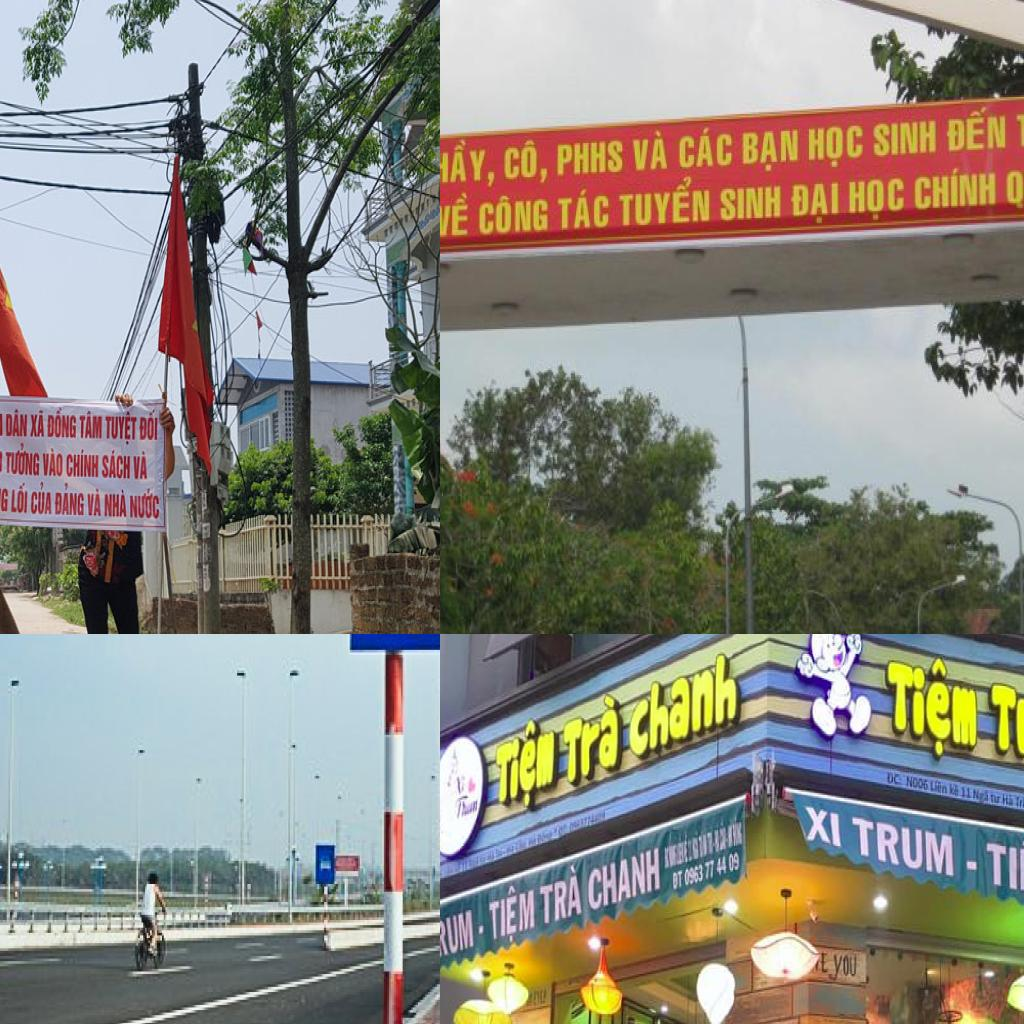text: (626, 648, 744, 766), (882, 649, 980, 769), (850, 812, 958, 884), (494, 710, 559, 817), (562, 690, 622, 792), (587, 844, 661, 916), (615, 174, 713, 228), (913, 164, 1000, 214), (985, 671, 1024, 778), (483, 881, 536, 952), (945, 104, 1009, 156), (981, 831, 1024, 908), (540, 860, 585, 931), (440, 137, 497, 192), (476, 196, 552, 237), (808, 124, 866, 176), (556, 135, 626, 177), (848, 176, 908, 224), (677, 124, 735, 172), (718, 180, 784, 222), (742, 126, 802, 172), (503, 133, 552, 189), (557, 186, 611, 234), (872, 119, 940, 157), (789, 179, 841, 228), (801, 804, 843, 856), (684, 854, 741, 892), (440, 907, 475, 966), (440, 190, 472, 243), (631, 131, 668, 174), (5, 441, 41, 478), (104, 410, 138, 447), (55, 482, 86, 518), (827, 952, 860, 985), (46, 406, 78, 440), (66, 448, 100, 480), (1002, 163, 1024, 211), (102, 448, 132, 481), (78, 408, 104, 442), (30, 481, 53, 518), (42, 446, 66, 480), (452, 792, 479, 822), (104, 488, 129, 520), (5, 407, 29, 439), (10, 480, 30, 516), (138, 408, 159, 442), (881, 770, 906, 792), (132, 449, 149, 481), (86, 486, 103, 518), (30, 408, 46, 440), (905, 772, 929, 792), (973, 785, 991, 811), (670, 868, 685, 896), (1000, 790, 1016, 814), (0, 478, 10, 515), (930, 778, 948, 796), (989, 788, 1002, 811), (818, 950, 829, 977), (1015, 791, 1024, 817), (948, 782, 962, 798), (960, 785, 972, 801), (0, 446, 4, 474)
